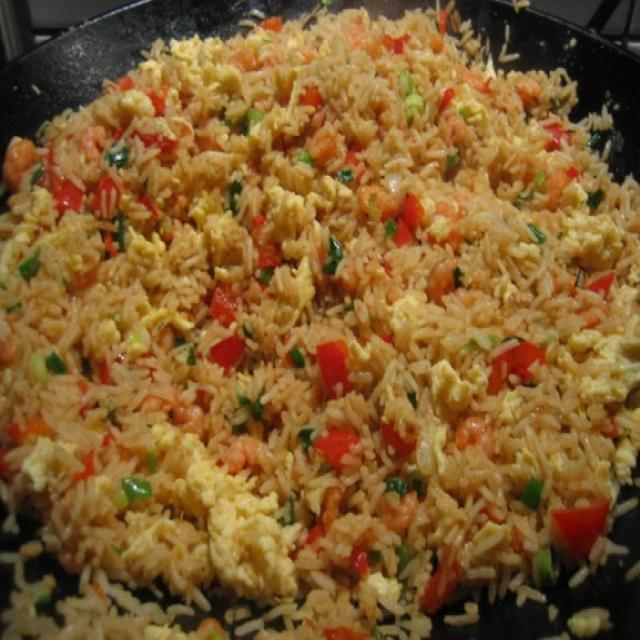米饭主食: (18, 28, 616, 608)
